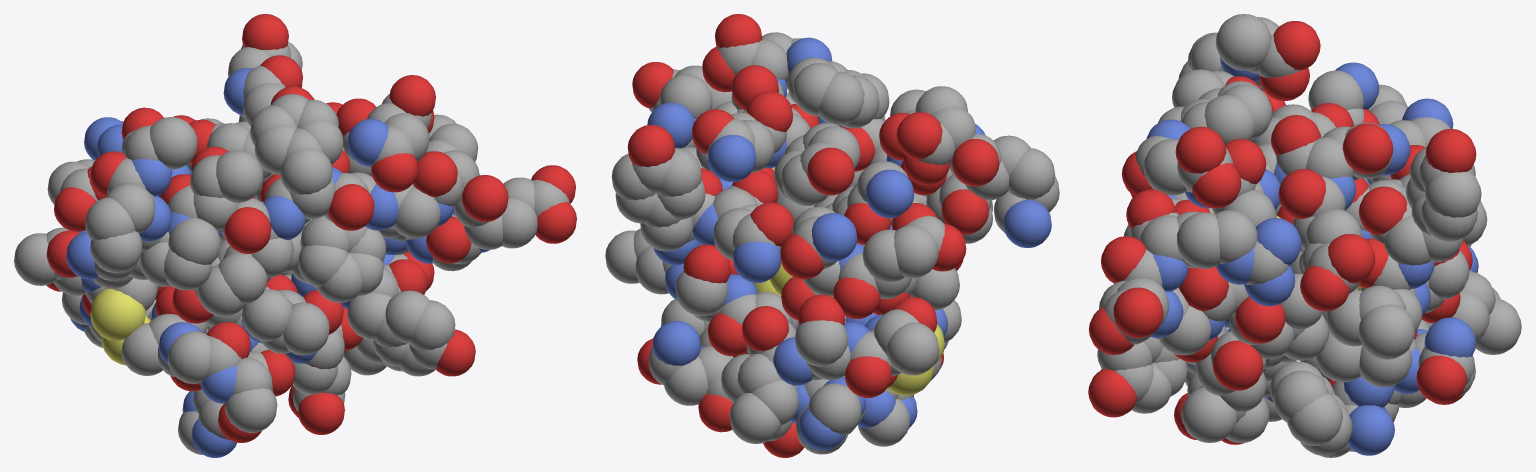
The model's file is insulin-cpk.glb.
The picture shows the model from 3 angles, left to right: view 1: azimuth 30°, elevation 25°; view 2: azimuth 150°, elevation 25°; view 3: azimuth 270°, elevation 25°; orthographic projection. The views are drawn at different scales.
Visible parts, largest first — view 1: insulin-cpk; view 2: insulin-cpk; view 3: insulin-cpk.
Part boxes in pixels (x1,y1,x2,y2): insulin-cpk: (14,14,576,457); insulin-cpk: (605,14,1059,457); insulin-cpk: (1088,14,1521,457).
Bounding box in the file's own units: 33.82 × 25.24 × 25.95.
